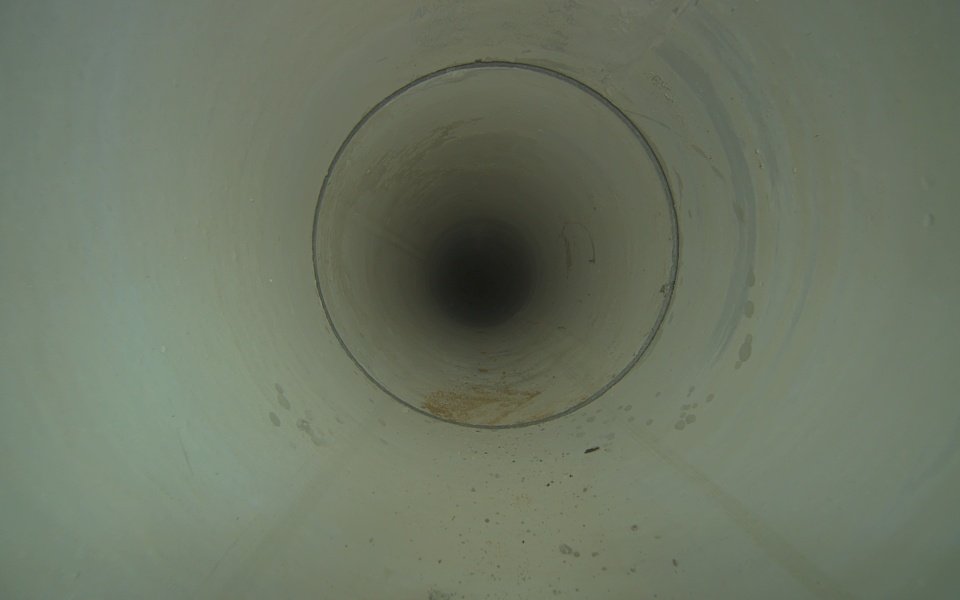circle1: (308, 60, 682, 431)
circle2: (452, 255, 504, 305)
